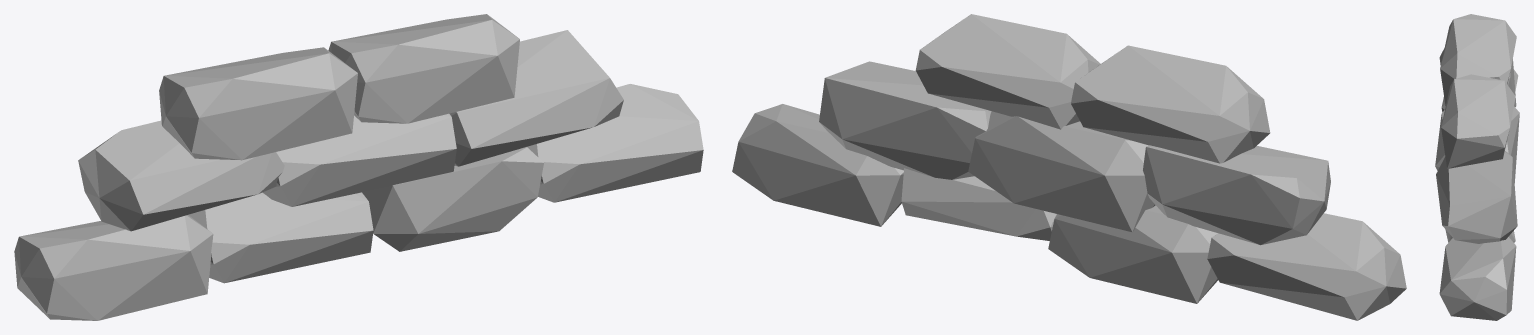
Rendered from stones_004.glb.
3 renders of one model, left to right at view 1: azimuth 30°, elevation 25°; view 2: azimuth 150°, elevation 25°; view 3: azimuth 270°, elevation 25°, orthographic. The views are drawn at different scales.
Parts seen in each view (by area): view 1: stones_004; view 2: stones_004; view 3: stones_004.
Part boxes in pixels (box(x1,y1,x2,y2)): stones_004: box(14, 14, 703, 320); stones_004: box(732, 14, 1406, 320); stones_004: box(1435, 14, 1519, 320).
Size of the model in its own units: 5.09 by 1.58 by 0.8138.
Materials: 1 (1 with a texture image).
